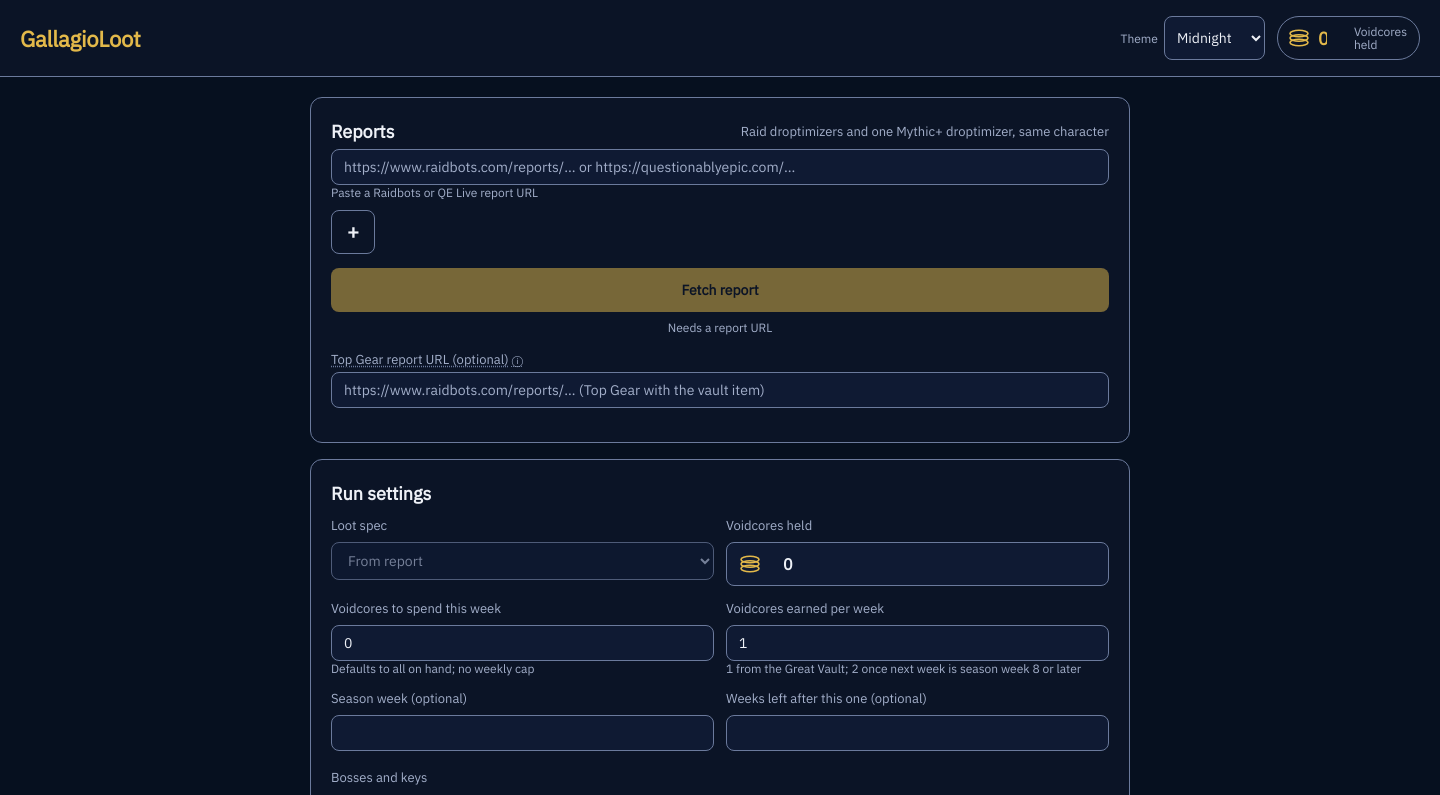
Test: Reports panel: one compact block per report › leaves the sim date off when the report has none
Step 1. Replace the text in the field with id "report-url" with "https://www.raidbots.com/simbot/report/6PTZ7TjgU8PdxJhZ97bMUa" → x=720, y=167, box [331,149,1109,185]
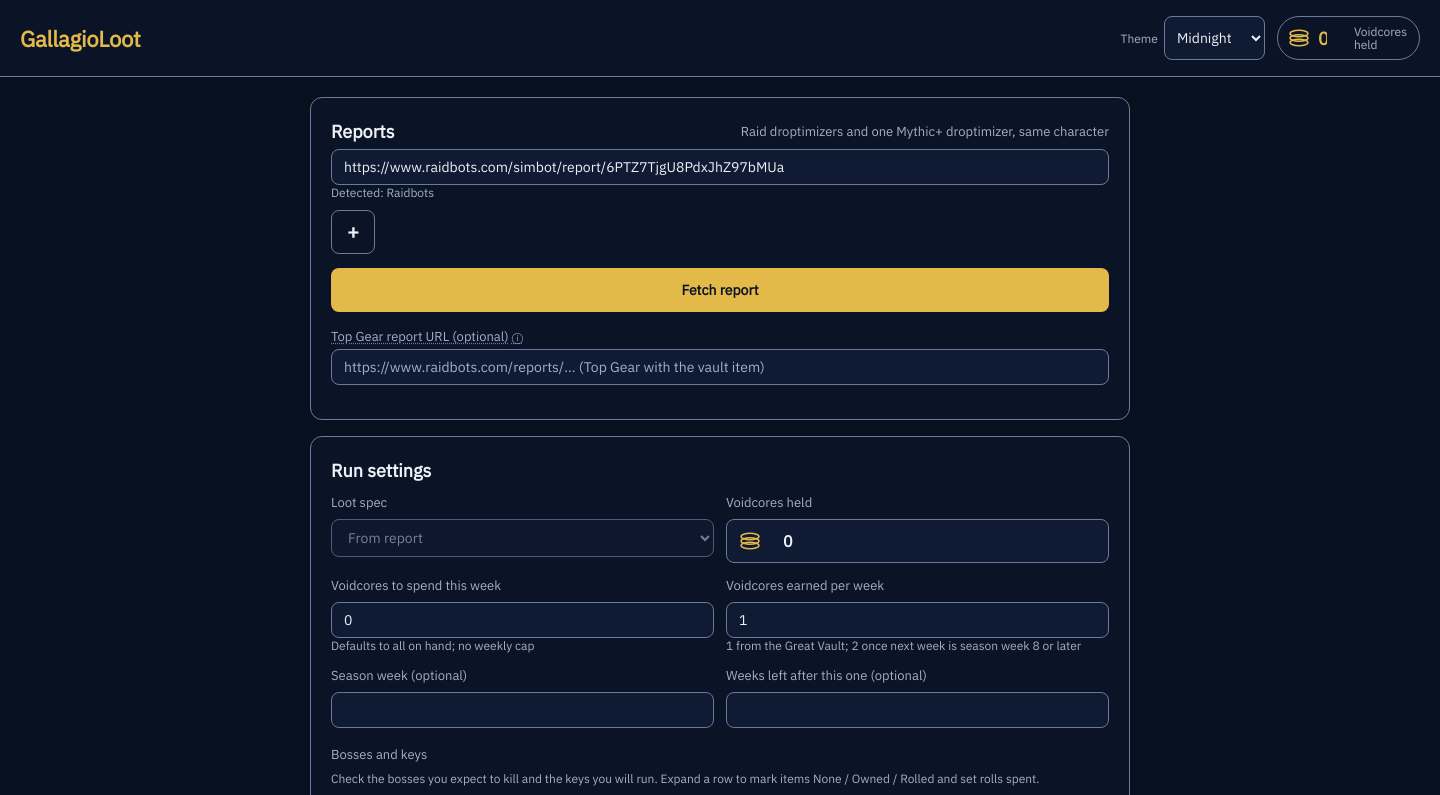
Step 2. Click the button "Fetch report" → x=720, y=290, box [331,268,1109,312]
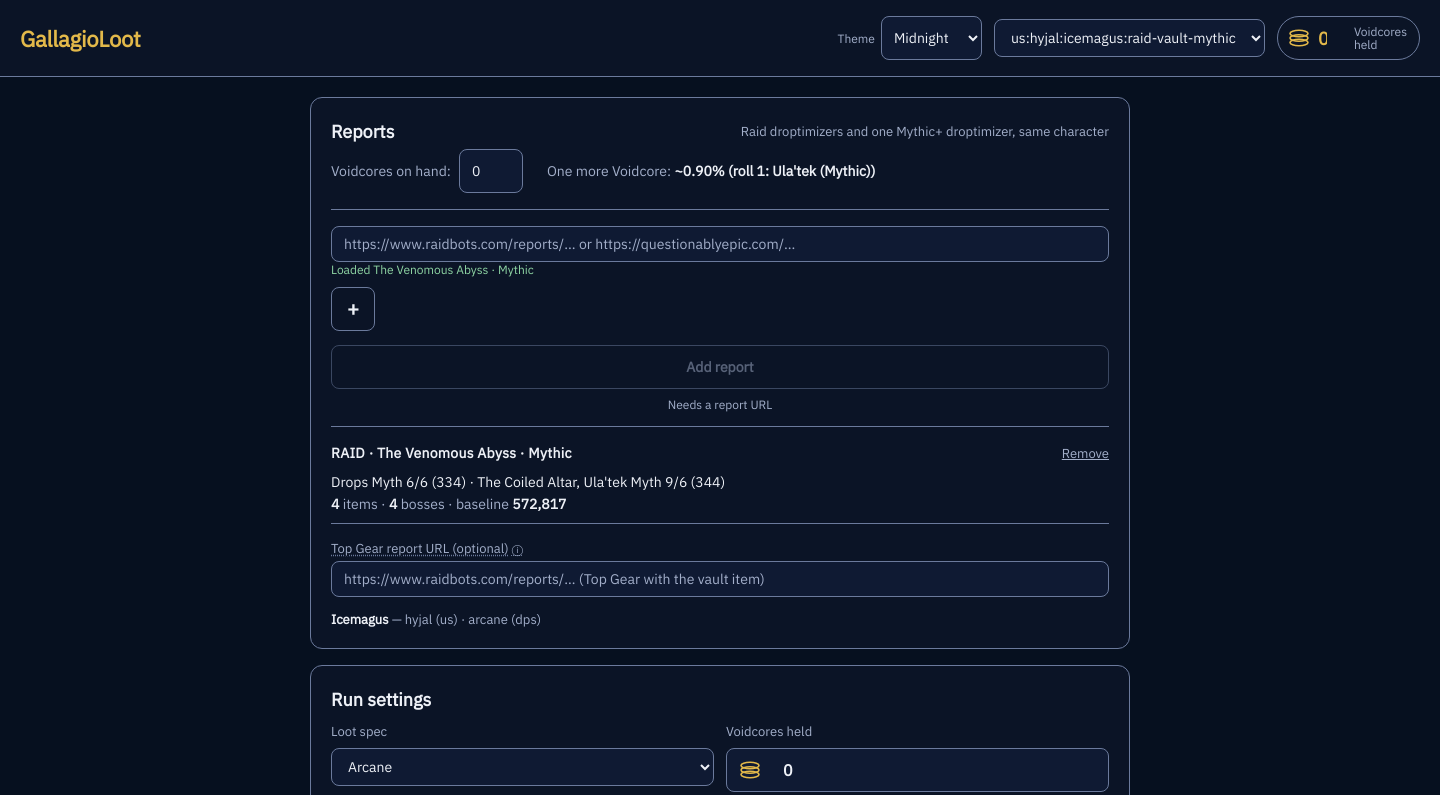
Result: the element with class "report-line__stats" reads "4 items · 4 bosses · baseline 572,817" at [331,495,566,513]
